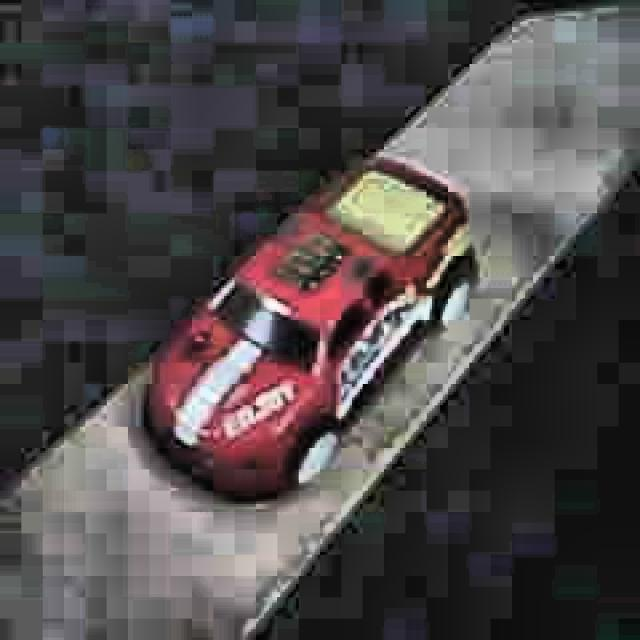car: (139, 156, 480, 508)
